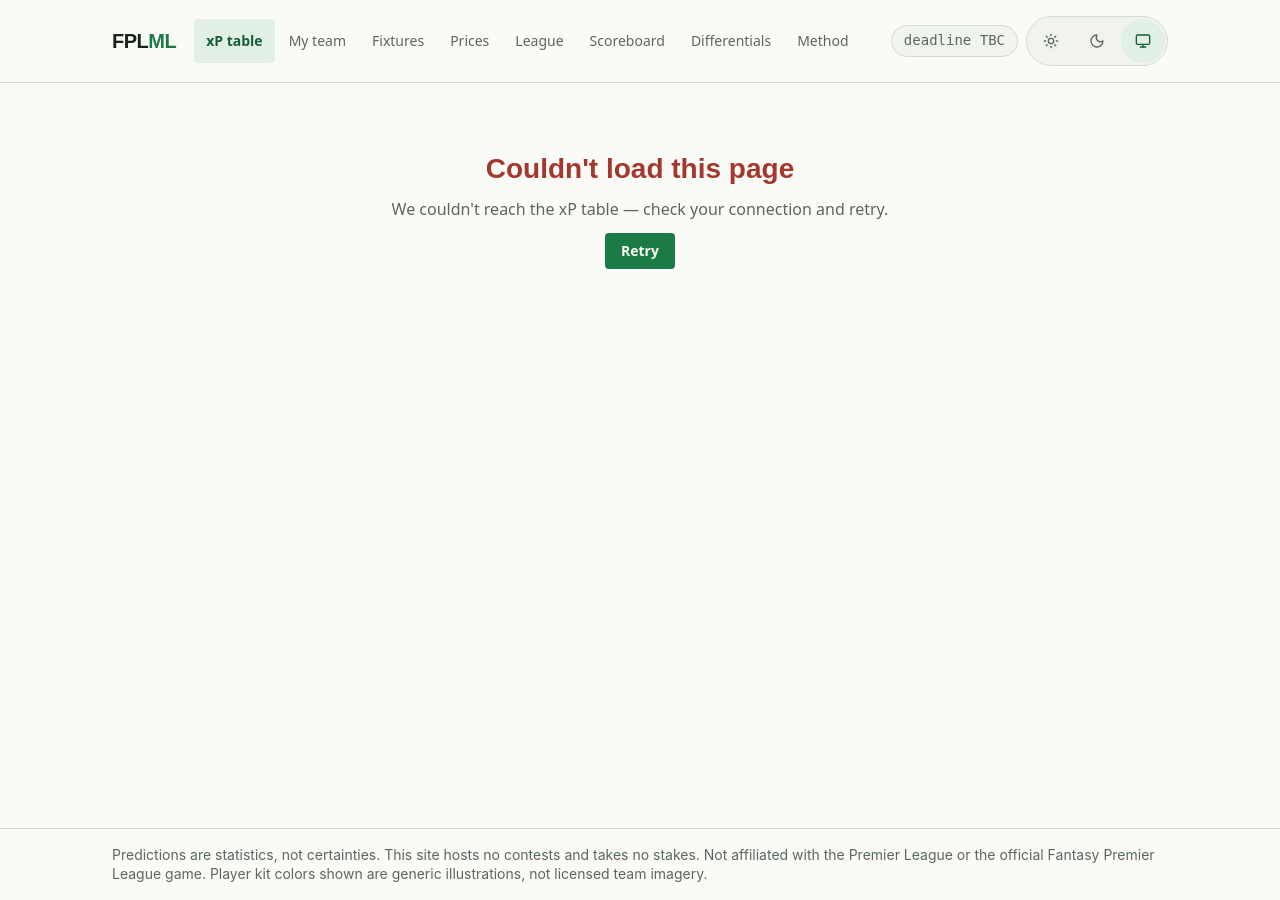
Test: route isolation (UI-SPEC E2 partial backstop) › keeps the nav and a sibling route interactive when one route's fetch fails
The width and height of the screenshot is (1280, 900).
Expected: the heading "Couldn't load this page" is shown, [486,153,794,185]
Expected: the link "xP table" is shown, [194,19,275,63]
Click the link "Fixtures". click: (398, 41)
box: [372,31,424,50]
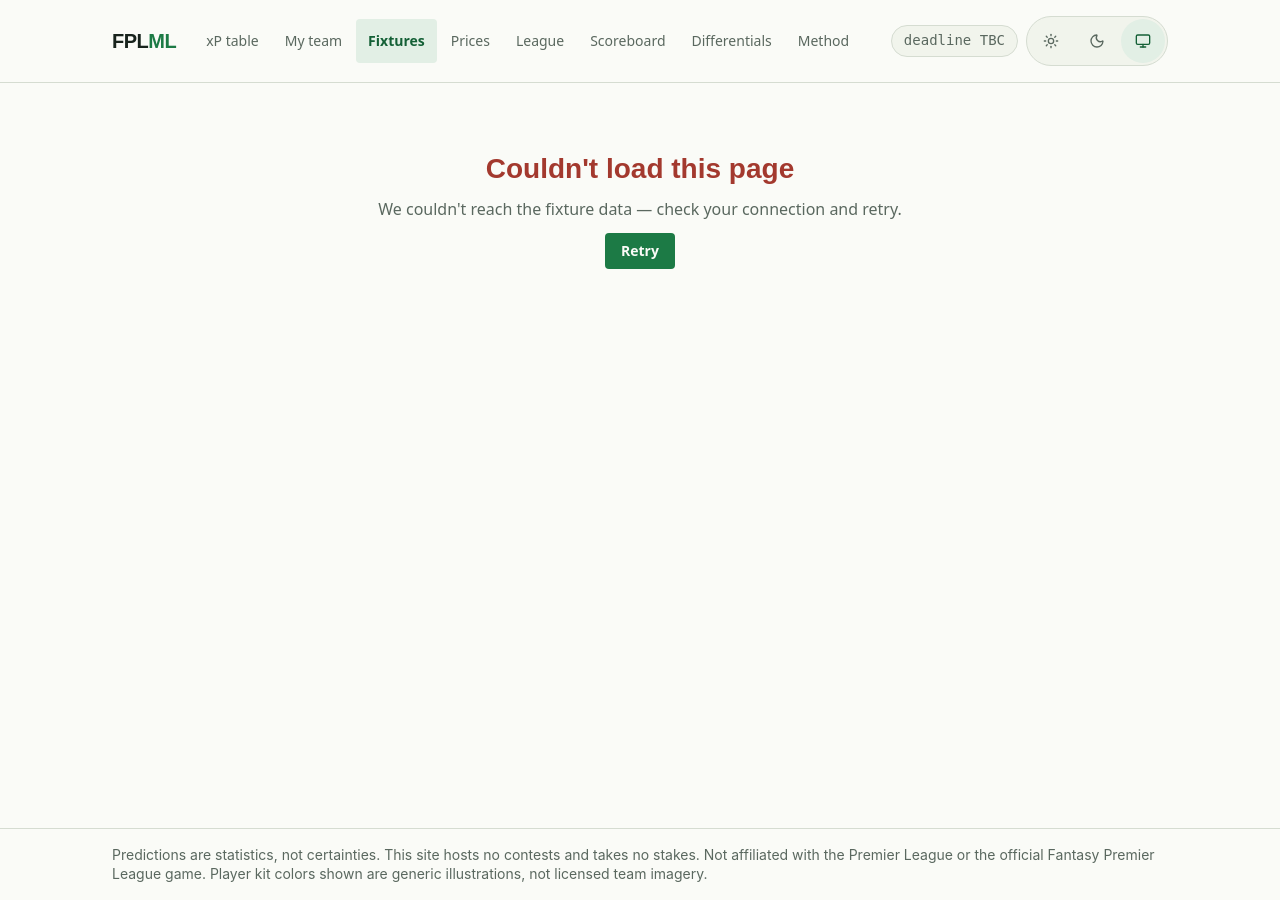
Expected: the text "the fixture data" is shown, [516,198,632,220]
